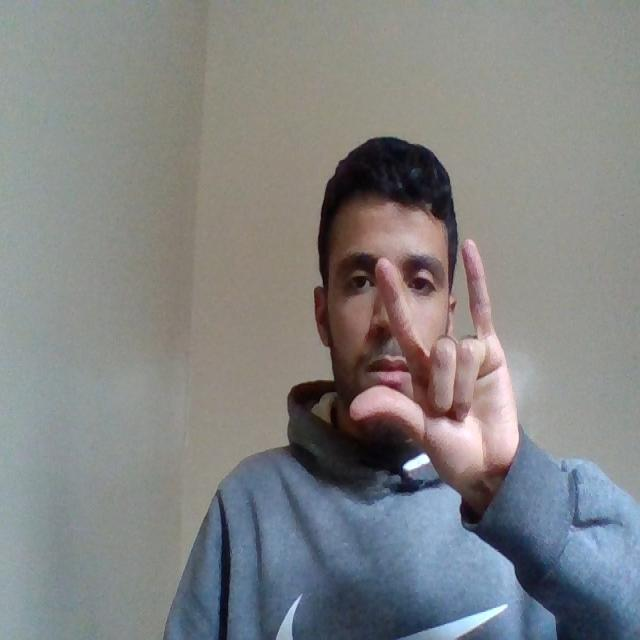I Love You: (341, 237, 534, 487)
